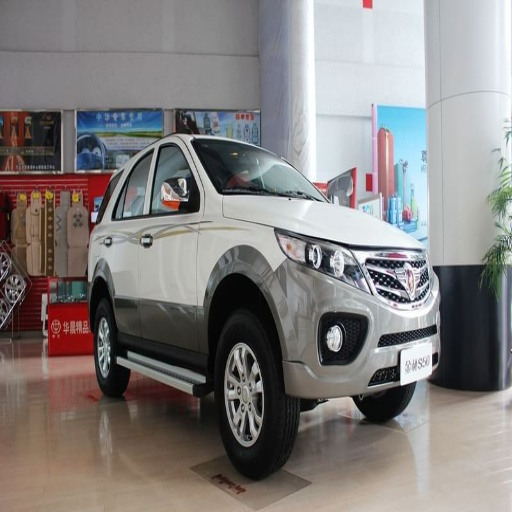front_bumper: (278, 261, 440, 394)
front_right_door: (140, 139, 200, 345)
front_right_light: (277, 231, 409, 303)
